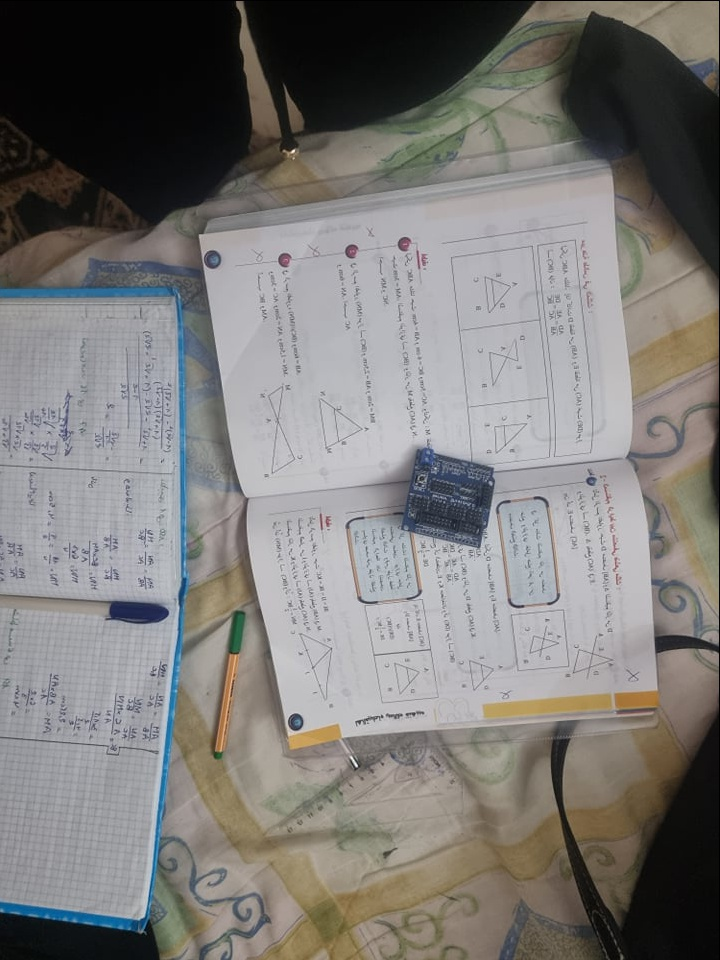5V EXPANSION: (403, 444, 497, 548)
